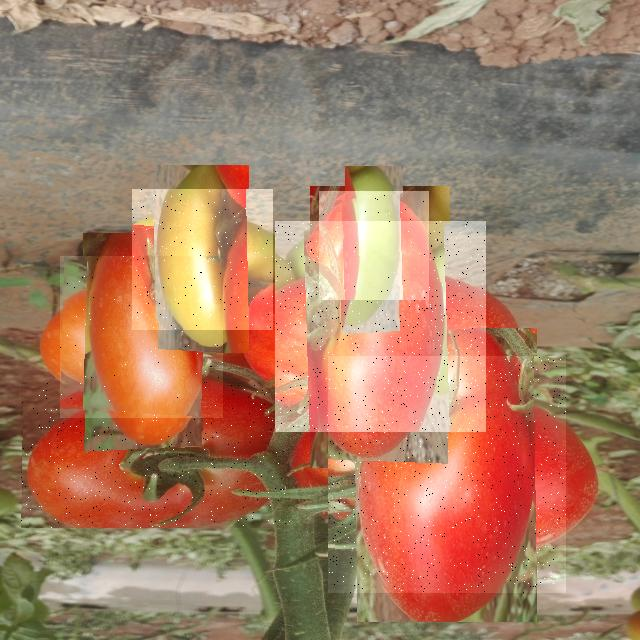Ripe Tomato: (328, 356, 566, 593), (275, 221, 486, 432), (21, 382, 290, 528), (60, 256, 223, 418)
Unripe Tomato: (132, 189, 273, 330), (319, 191, 429, 300)
